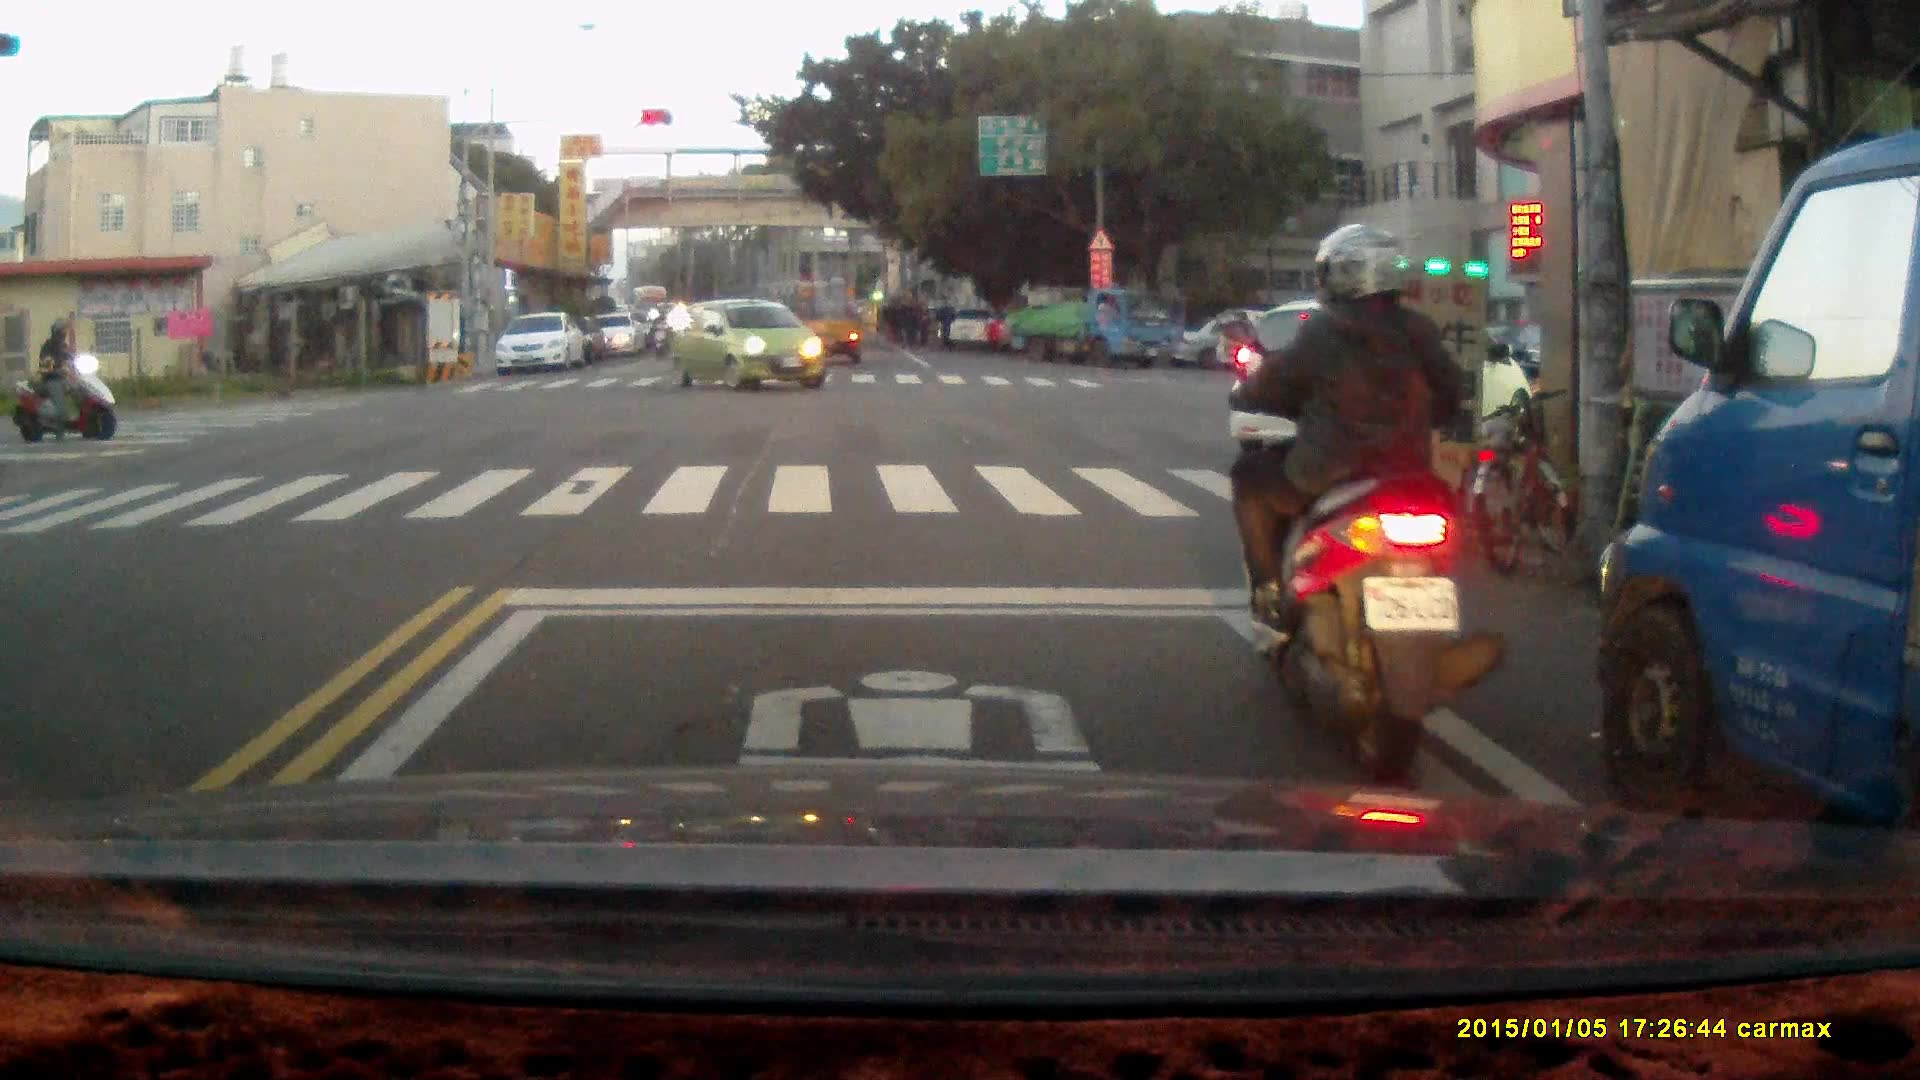rider: (1218, 218, 1512, 774), (10, 317, 119, 440), (648, 308, 673, 361)
vehicle: (1600, 132, 1920, 921), (1217, 294, 1527, 464), (673, 295, 824, 397), (1002, 284, 1176, 367), (784, 272, 866, 372), (496, 313, 587, 377), (592, 311, 642, 360)
